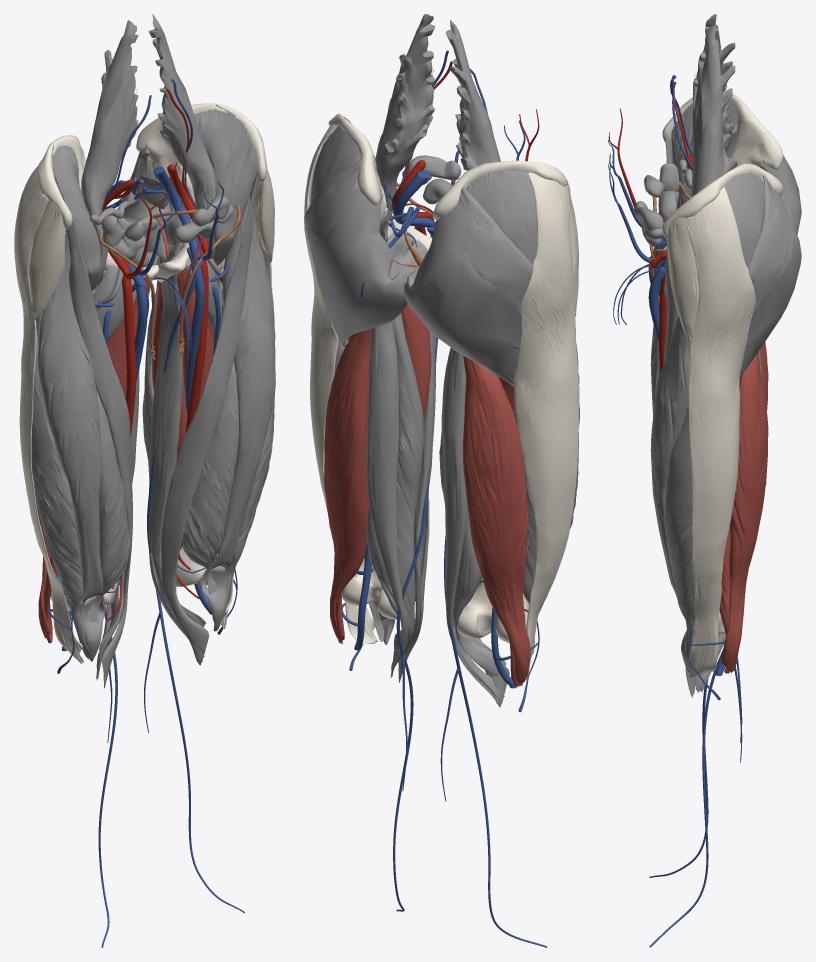
Rendered from hip.glb.
The picture shows the model from 3 angles, left to right: view 1: azimuth 30°, elevation 25°; view 2: azimuth 150°, elevation 25°; view 3: azimuth 270°, elevation 25°; orthographic projection. The views are drawn at different scales.
Parts seen in each view (by area): view 1: right rectus femoris, left rectus femoris, left sartorius, right iliotibial tract, right vastus lateralis, right sartorius, left gracilis, right psoas major, left vastus medialis, left iliacus, left psoas major, right vastus medialis (+29 smaller); view 2: right iliotibial tract, right gluteus maximus, long head of right biceps femoris, left gluteus maximus, long head of left biceps femoris, left semitendinosus, left semimembranosus, right semitendinosus, left psoas major, left iliotibial tract, right gluteus medius, right psoas major (+17 smaller); view 3: left iliotibial tract, long head of left biceps femoris, left gluteus maximus, left rectus femoris, left psoas major, left vastus lateralis, left tensor fasciae latae, right hip bone, left gluteus medius, left hip bone, right psoas major, right iliacus (+10 smaller).
Part boxes in pixels (box(x1,y1,x2,y2)): right rectus femoris: box(38, 234, 105, 661); left rectus femoris: box(200, 207, 275, 631); left sartorius: box(161, 171, 259, 665); right iliotibial tract: box(14, 166, 84, 663); right vastus lateralis: box(31, 311, 89, 659); right sartorius: box(65, 219, 132, 688); left gracilis: box(148, 273, 205, 627); right psoas major: box(81, 20, 138, 291); left vastus medialis: box(181, 289, 239, 594); left iliacus: box(194, 104, 256, 265); left psoas major: box(148, 14, 216, 258); right vastus medialis: box(88, 390, 129, 622); right iliotibial tract: box(513, 172, 578, 679); right gluteus maximus: box(404, 187, 533, 386); long head of right biceps femoris: box(463, 355, 530, 686); left gluteus maximus: box(305, 162, 407, 347); long head of left biceps femoris: box(324, 328, 372, 643); left semitendinosus: box(366, 321, 408, 677); left semimembranosus: box(366, 313, 423, 651); right semitendinosus: box(442, 349, 500, 704); left psoas major: box(375, 14, 434, 203); left iliotibial tract: box(304, 125, 377, 643); right gluteus medius: box(466, 170, 537, 264); right psoas major: box(446, 20, 500, 170); left iliotibial tract: box(685, 187, 755, 677); long head of left biceps femoris: box(721, 352, 768, 672); left gluteus maximus: box(739, 175, 801, 377); left rectus femoris: box(650, 314, 690, 672); left psoas major: box(692, 26, 737, 196); left vastus lateralis: box(664, 406, 695, 670); left tensor fasciae latae: box(667, 217, 698, 343); right hip bone: box(662, 90, 783, 249); left gluteus medius: box(724, 172, 764, 267); left hip bone: box(662, 163, 782, 239); right psoas major: box(679, 14, 737, 206); right iliacus: box(671, 100, 739, 209).
Size of the model in its own units: 0.325 by 1.13 by 0.2209.
